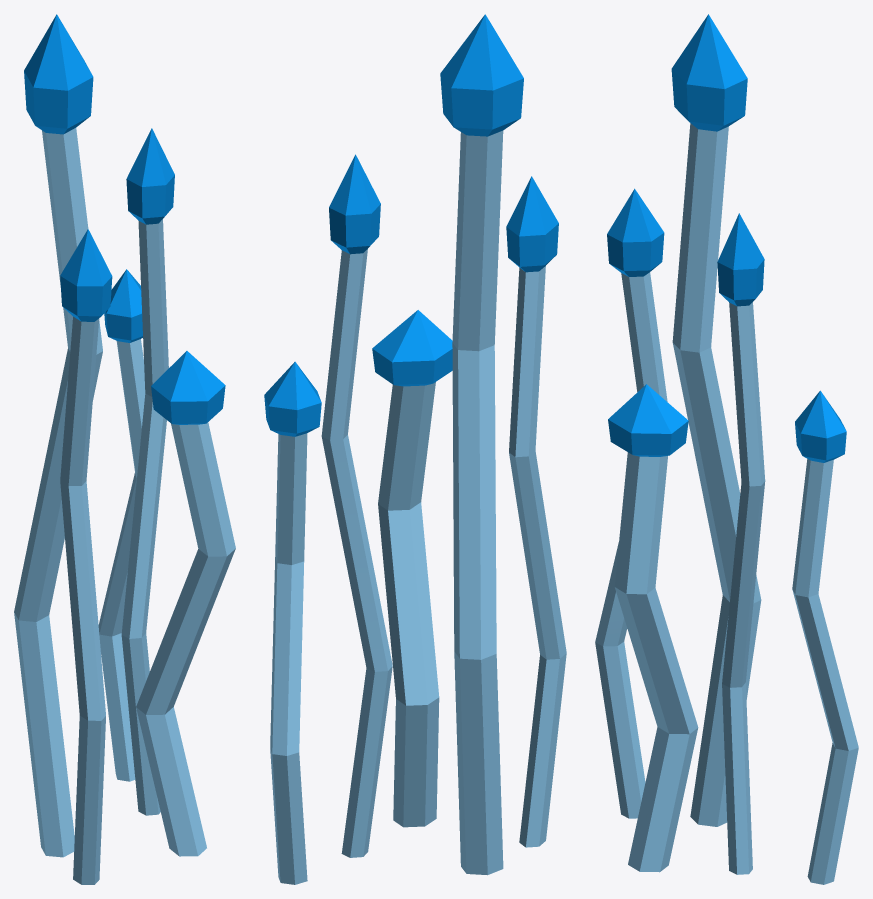
File: tumbuhan4.fbx
3 renders of one model, left to right at view 1: azimuth 30°, elevation 25°; view 2: azimuth 150°, elevation 25°; view 3: azimuth 270°, elevation 25°, orthographic. The views are drawn at different scales.
Visible parts, largest first — view 1: Null_1.002; view 2: Null_1.002; view 3: Null_1.002.
Part boxes in pixels (left/top/right/bottom): Null_1.002: left=14, top=14, right=235, bottom=884; Null_1.002: left=264, top=14, right=566, bottom=884; Null_1.002: left=595, top=14, right=858, bottom=884.
Bounding box in the file's own units: 707 × 3041 × 904.
